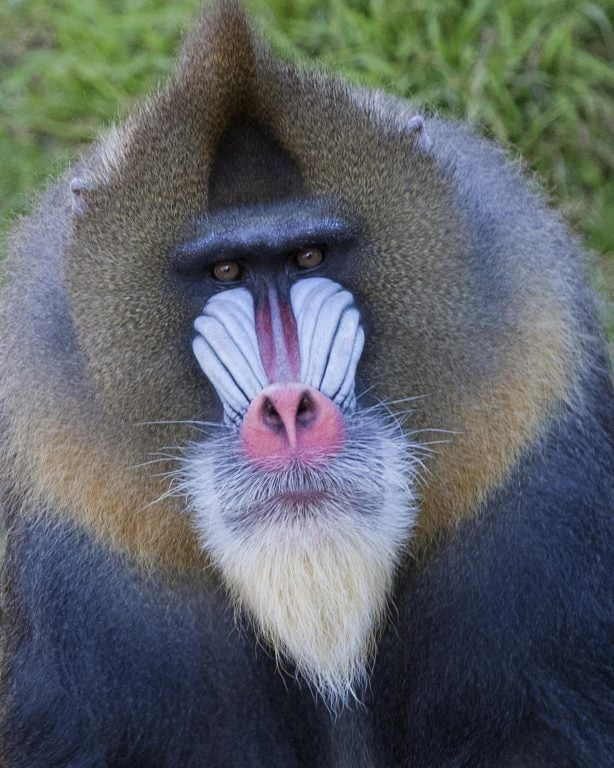Mandrill: (35, 38, 585, 744)
